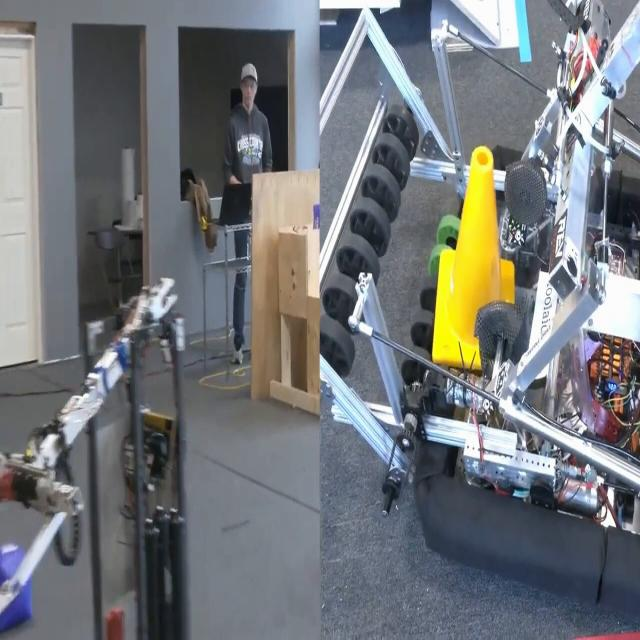frc_cone: (421, 142, 520, 377)
frc_cube: (0, 542, 34, 632), (310, 197, 320, 233)
